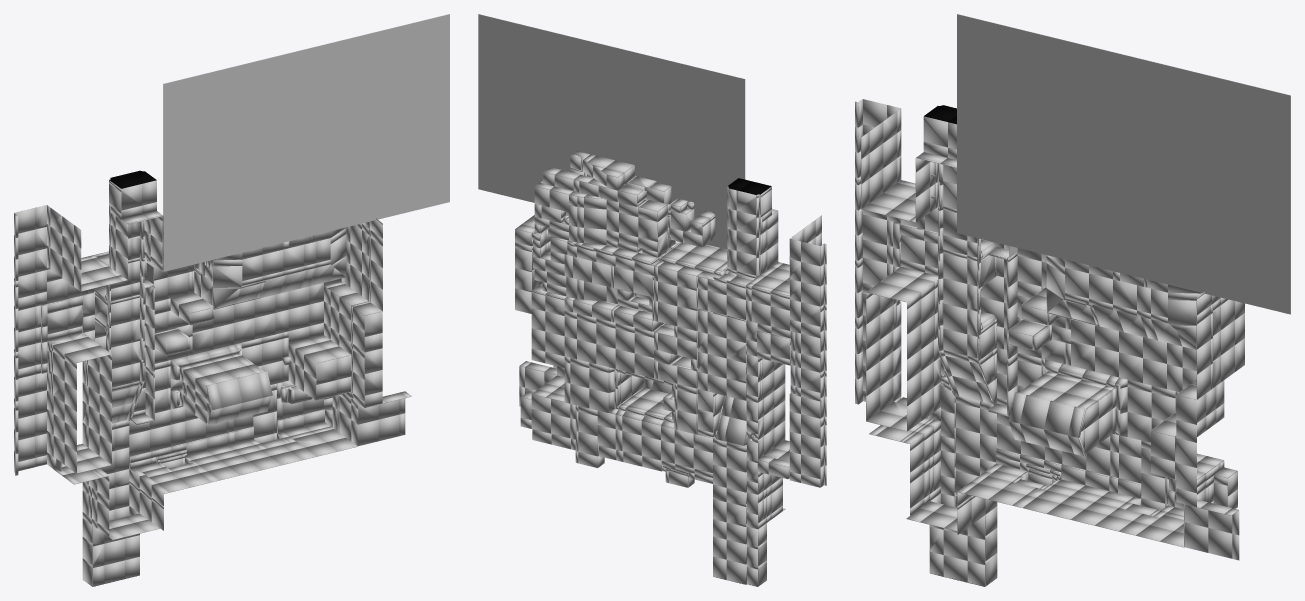
The model's file is cs_assault_shadow.obj.
3 views of the same model, side by side, from view 1: azimuth 30°, elevation 25°; view 2: azimuth 150°, elevation 25°; view 3: azimuth 330°, elevation 25° (orthographic). The views are drawn at different scales.
Parts seen in each view (by area): view 1: M_0_ENT_0; view 2: M_0_ENT_0; view 3: M_0_ENT_0.
Boxes of the visible parts, x1,y1,x2,y2 form: M_0_ENT_0: [14, 14, 449, 586]; M_0_ENT_0: [478, 14, 826, 586]; M_0_ENT_0: [855, 14, 1290, 586].
Size of the model in its own units: 4386 by 5280 by 772.
